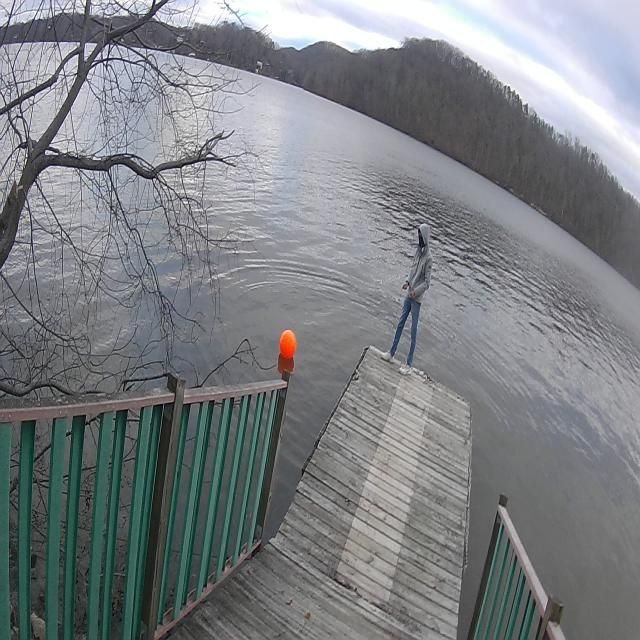Buoy: (279, 327, 297, 363)
